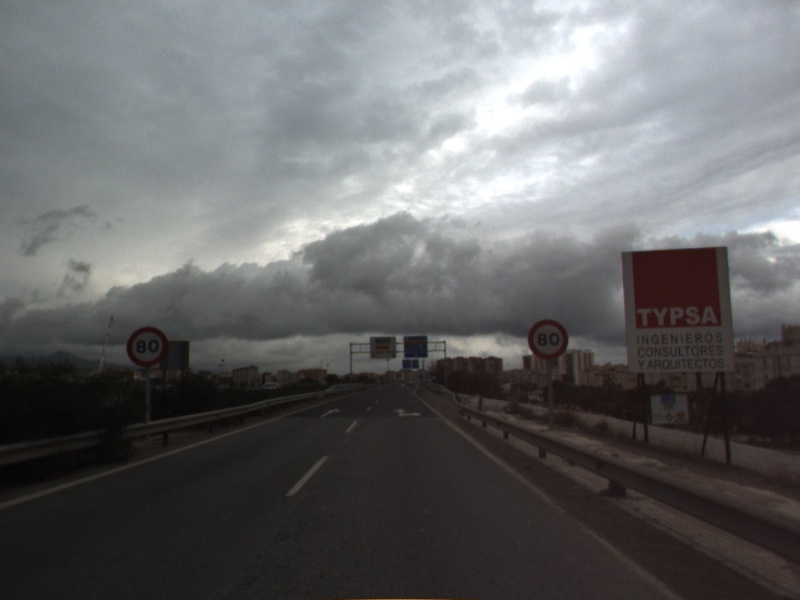STRAIGHT: (317, 406, 342, 420)
STRAIGHT_RIGHT: (392, 407, 425, 419)
